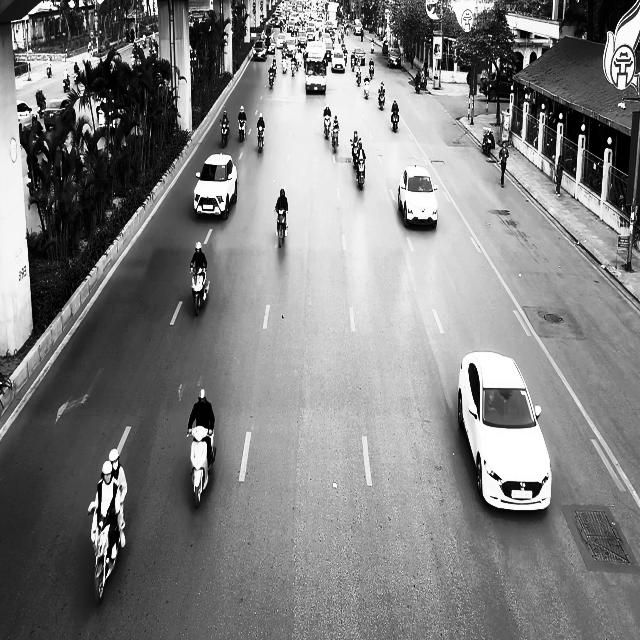bus: (304, 41, 328, 94)
car: (458, 350, 552, 512), (194, 153, 238, 220), (398, 165, 438, 228), (44, 98, 76, 132), (17, 100, 37, 131), (331, 48, 346, 72), (387, 48, 402, 68), (253, 40, 267, 60), (353, 47, 366, 65)
motorbike: (88, 504, 125, 606), (187, 427, 217, 508), (190, 263, 210, 316), (275, 207, 288, 247), (482, 127, 495, 156), (356, 156, 366, 190), (220, 120, 230, 148), (331, 126, 340, 152), (351, 140, 360, 166), (257, 125, 265, 152), (391, 110, 400, 132), (324, 116, 331, 139), (378, 90, 385, 110), (269, 69, 276, 88), (364, 77, 370, 98), (356, 67, 362, 86), (64, 76, 70, 92), (369, 64, 374, 79)
